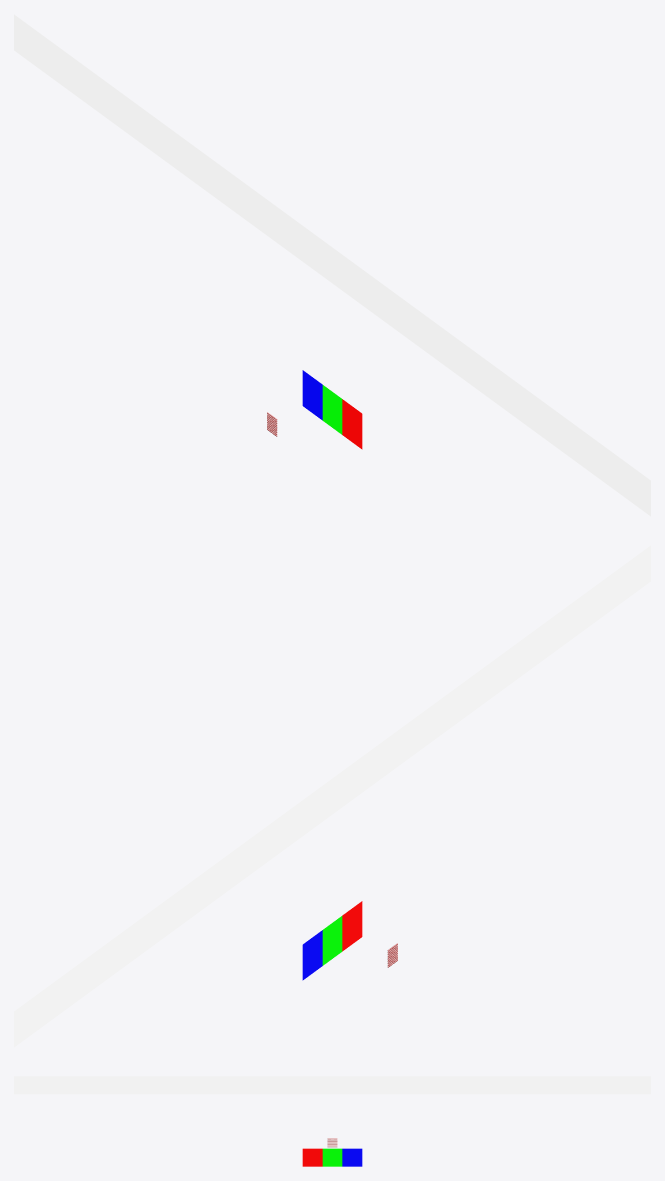
The model's file is 07-scene-medium-1.gltf.
3 renders of one model, top to bottom at view 1: azimuth 30°, elevation 25°; view 2: azimuth 150°, elevation 25°; view 3: azimuth 270°, elevation 25°, orthographic. The views are drawn at different scales.
Visible parts, largest first — view 1: Plane.001, Plane.005, Plane.006, Plane.007; view 2: Plane.001, Plane.005, Plane.006, Plane.007; view 3: Plane.001, Plane.005, Plane.006, Plane.007.
Boxes of the visible parts, left/top/right/bottom form: Plane.001: left=14, top=14, right=650, bottom=516; Plane.005: left=342, top=399, right=362, bottom=449; Plane.006: left=302, top=370, right=322, bottom=420; Plane.007: left=322, top=385, right=342, bottom=434; Plane.001: left=14, top=545, right=650, bottom=1047; Plane.005: left=342, top=901, right=362, bottom=951; Plane.006: left=302, top=930, right=322, bottom=980; Plane.007: left=322, top=916, right=342, bottom=965; Plane.001: left=14, top=1076, right=650, bottom=1094; Plane.005: left=302, top=1148, right=322, bottom=1166; Plane.006: left=342, top=1148, right=362, bottom=1166; Plane.007: left=322, top=1148, right=342, bottom=1166.
Bounding box in the file's own units: 7.08 × 20 × 128.
